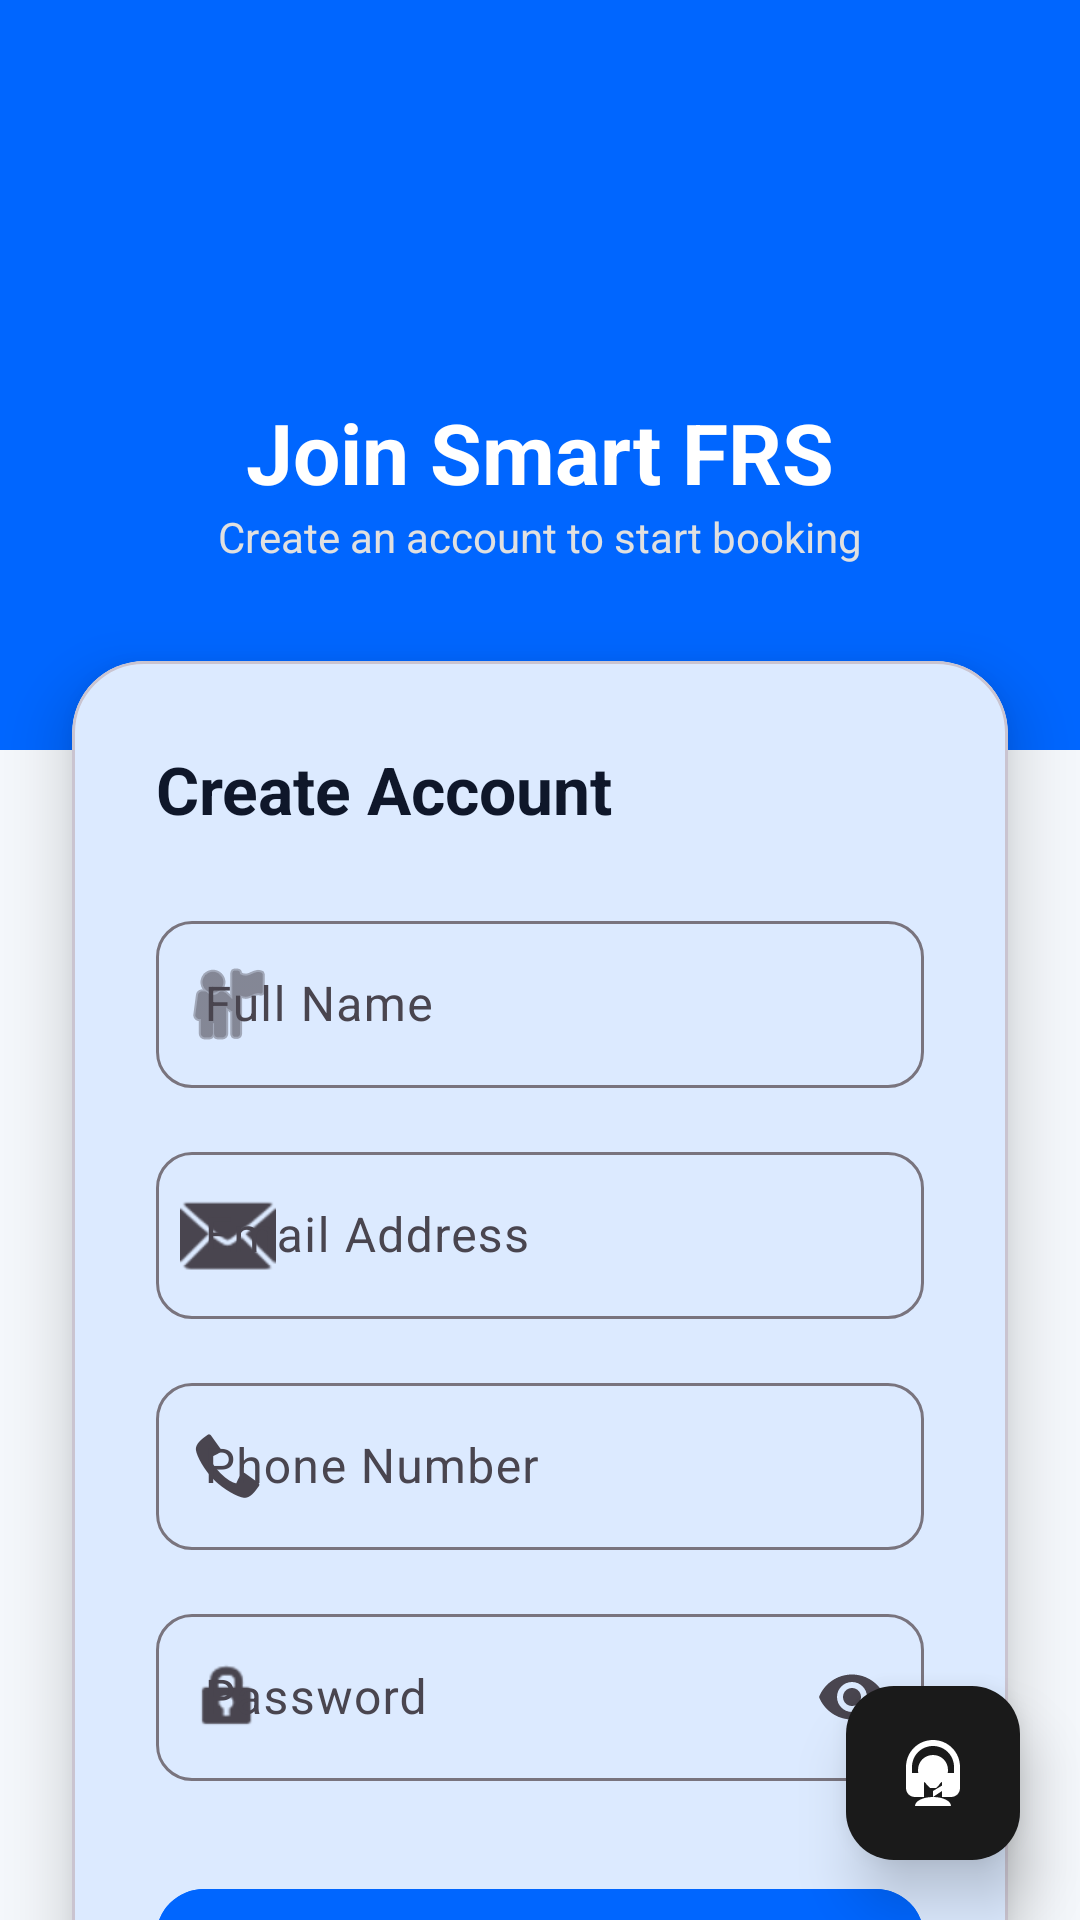

Screen size 1080x1920. Icon name, then its center in pixels as (x,y):
Support: (933,1773)
